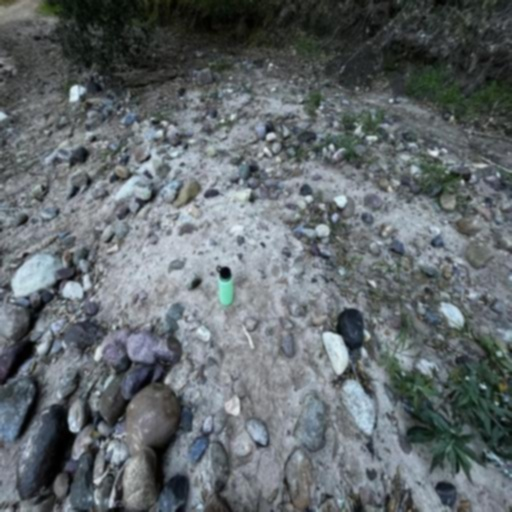bottle: (216, 266, 234, 306)
